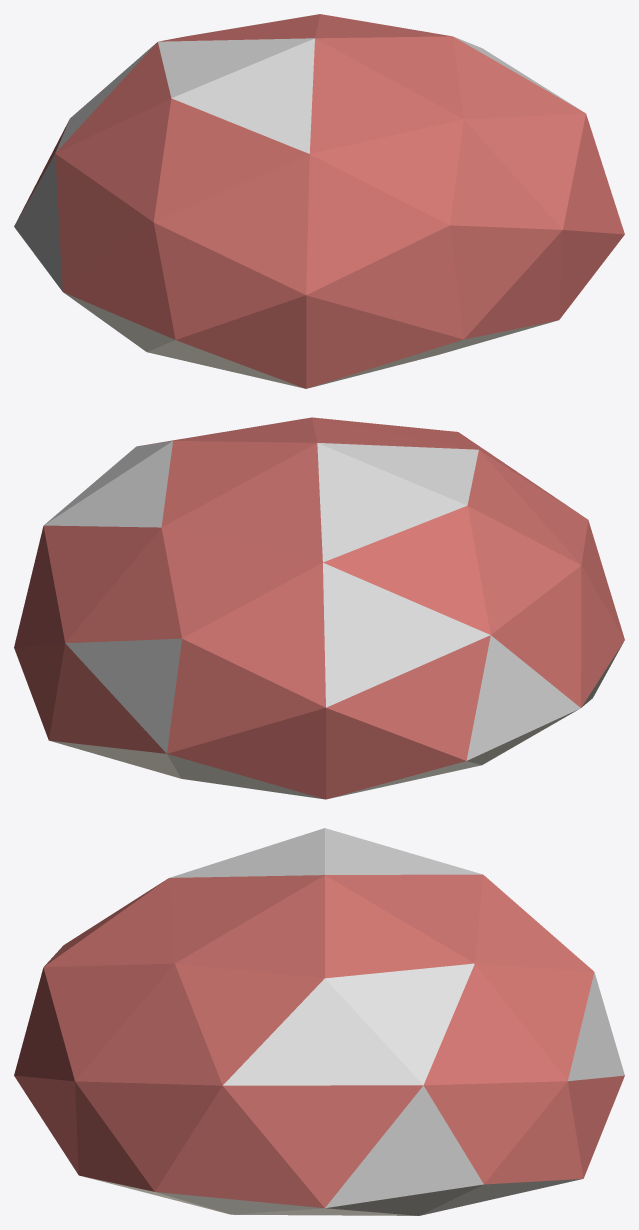
Rendered from mushroom_cap.glb.
3 views of the same model, one above another, from view 1: azimuth 30°, elevation 25°; view 2: azimuth 150°, elevation 25°; view 3: azimuth 270°, elevation 25° (orthographic). The views are drawn at different scales.
Parts seen in each view (by area): view 1: mushroom_cap; view 2: mushroom_cap; view 3: mushroom_cap.
Part boxes in pixels (box(x1,y1,x2,y2)): mushroom_cap: box(14, 14, 624, 388); mushroom_cap: box(14, 417, 624, 799); mushroom_cap: box(14, 828, 624, 1215).
Bounding box in the file's own units: 0.6287 × 0.2652 × 0.6219.
